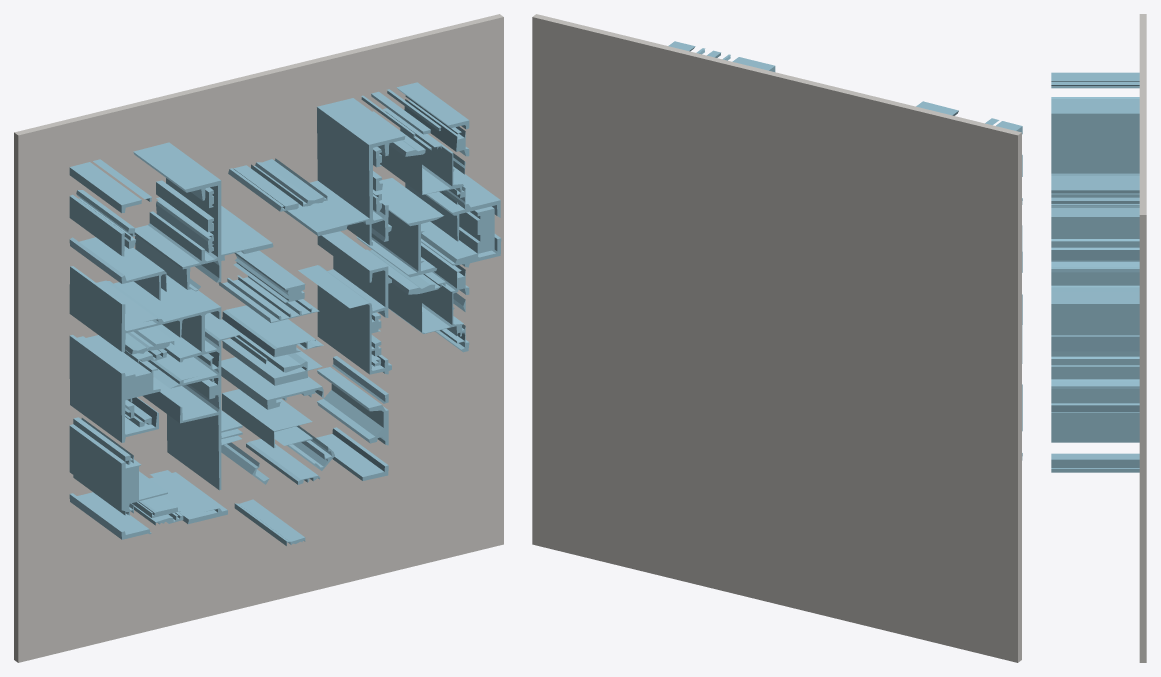
3 views of the same model, side by side, from view 1: azimuth 30°, elevation 25°; view 2: azimuth 150°, elevation 25°; view 3: azimuth 270°, elevation 25° (orthographic). The views are drawn at different scales.
Visible parts, largest first — view 1: world; view 2: world; view 3: world.
Part boxes in pixels (box(x1,y1,x2,y2)): world: box(14, 14, 503, 662); world: box(532, 14, 1022, 662); world: box(1051, 14, 1146, 662).
Size of the model in its own units: 10.23 by 10.62 by 2.05.
